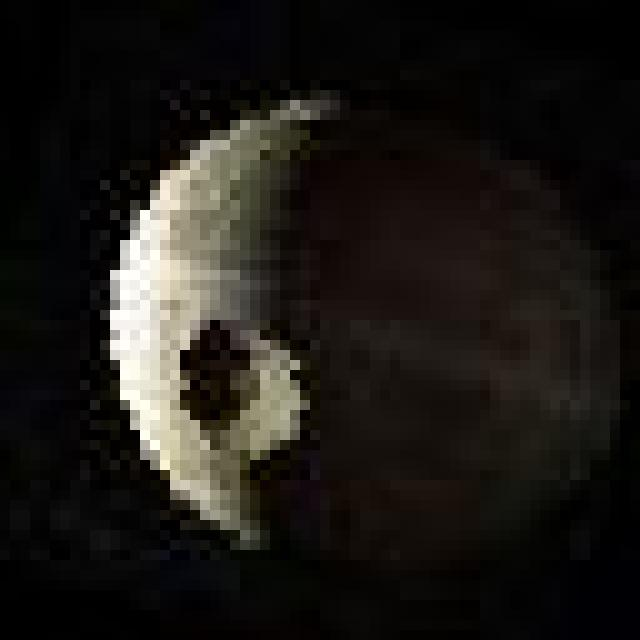Death Star: (90, 62, 633, 550)
